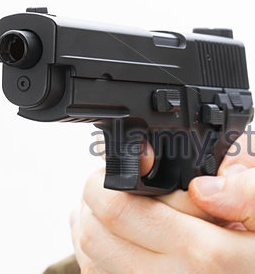pistol: (1, 5, 255, 194)
